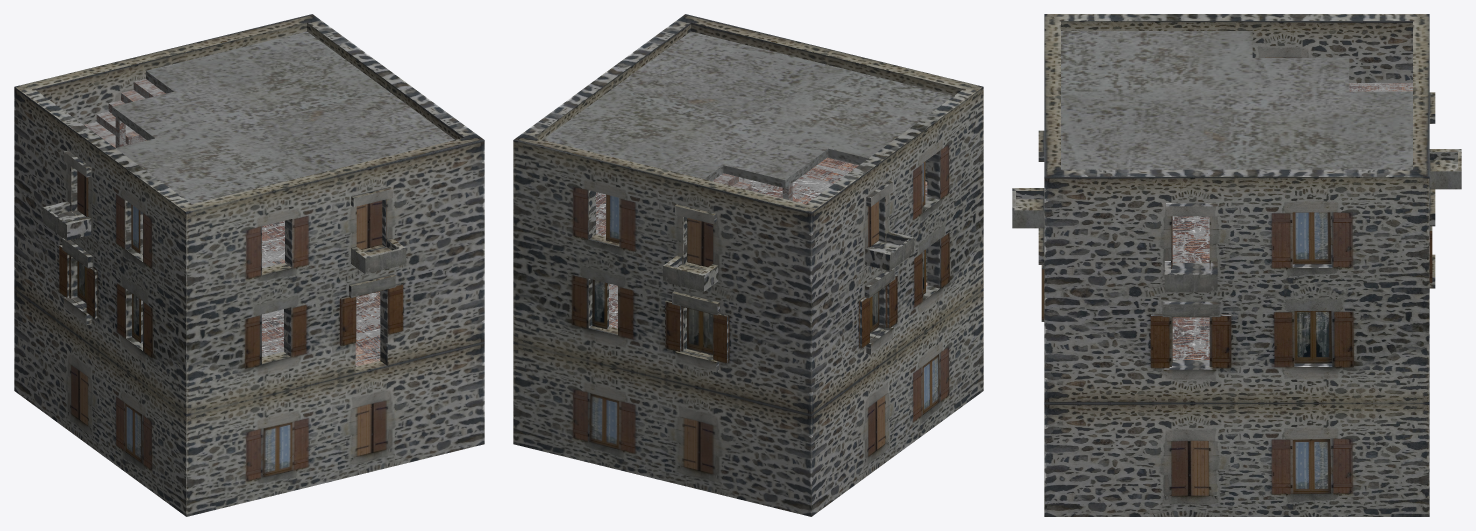
The model's file is BagBuilding15_140.fbx.
3 renders of one model, left to right at view 1: azimuth 30°, elevation 25°; view 2: azimuth 150°, elevation 25°; view 3: azimuth 270°, elevation 25°, orthographic. The views are drawn at different scales.
Visible parts, largest first — view 1: main140, mainFlip140, roof140, stairs140; view 2: main140, mainFlip140, roof140, stairs140; view 3: mainFlip140, roof140, main140, stairs140.
Part boxes in pixels (box(x1,y1,x2,y2)): main140: box(14, 14, 484, 516); mainFlip140: box(14, 22, 306, 516); roof140: box(112, 31, 454, 203); stairs140: box(84, 79, 380, 366); main140: box(513, 14, 983, 516); mainFlip140: box(691, 22, 983, 516); roof140: box(543, 31, 953, 187); stairs140: box(596, 157, 927, 328); mainFlip140: box(1044, 176, 1429, 516); roof140: box(1061, 31, 1412, 169); main140: box(1012, 14, 1461, 366); stairs140: box(1172, 83, 1412, 359).
Size of the model in its own units: 19.63 by 16.39 by 19.62.
